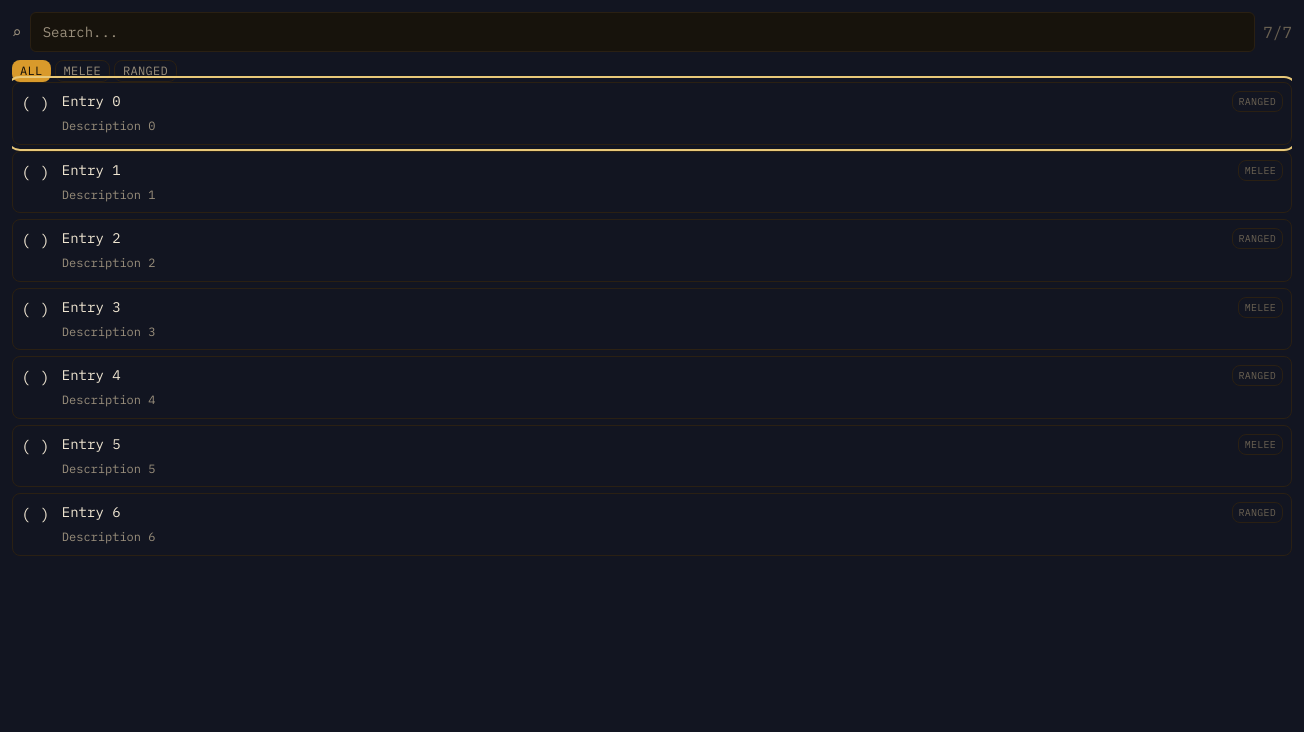
FacetedOptionList › shows the filter bar above the facet threshold and filters entries by query
Type "Entry 3" into the field with placeholder "Search..." at (642, 32), box x1=30 y1=12 x2=1255 y2=52
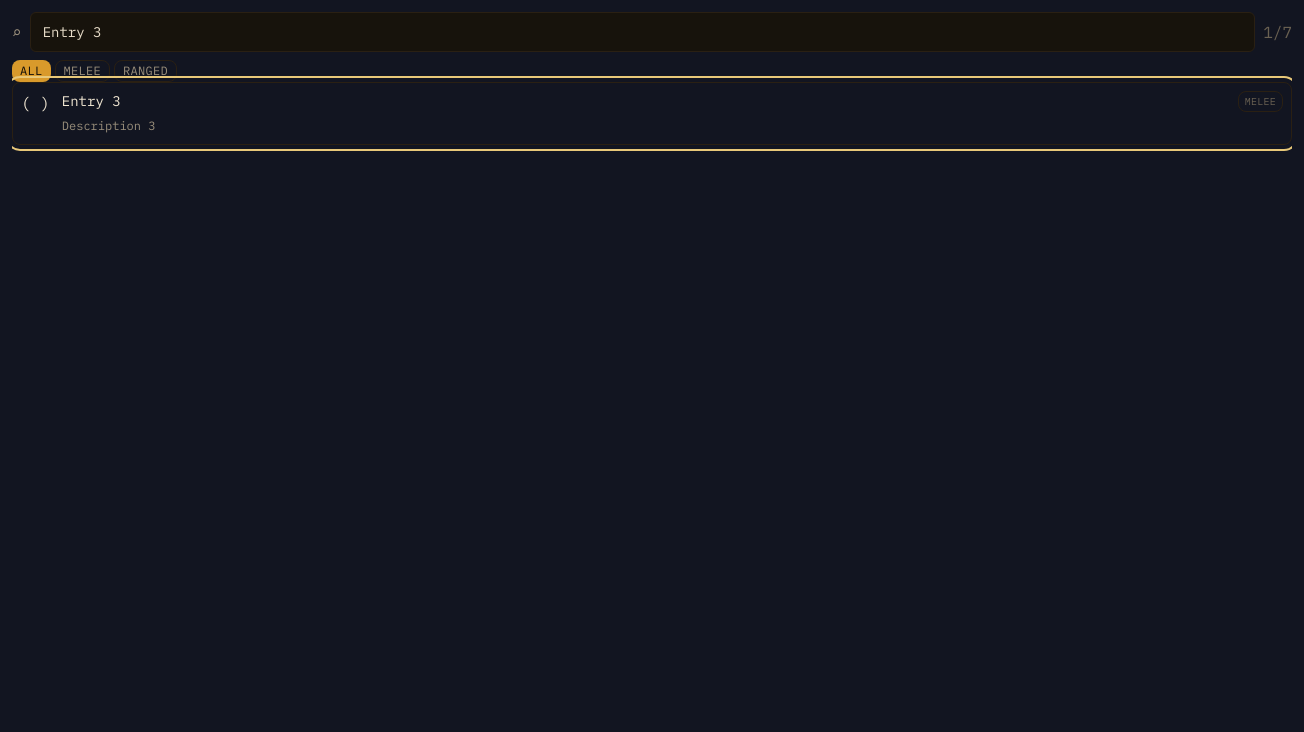
Check: the number of options is 1, box x1=12 y1=82 x2=1292 y2=144
